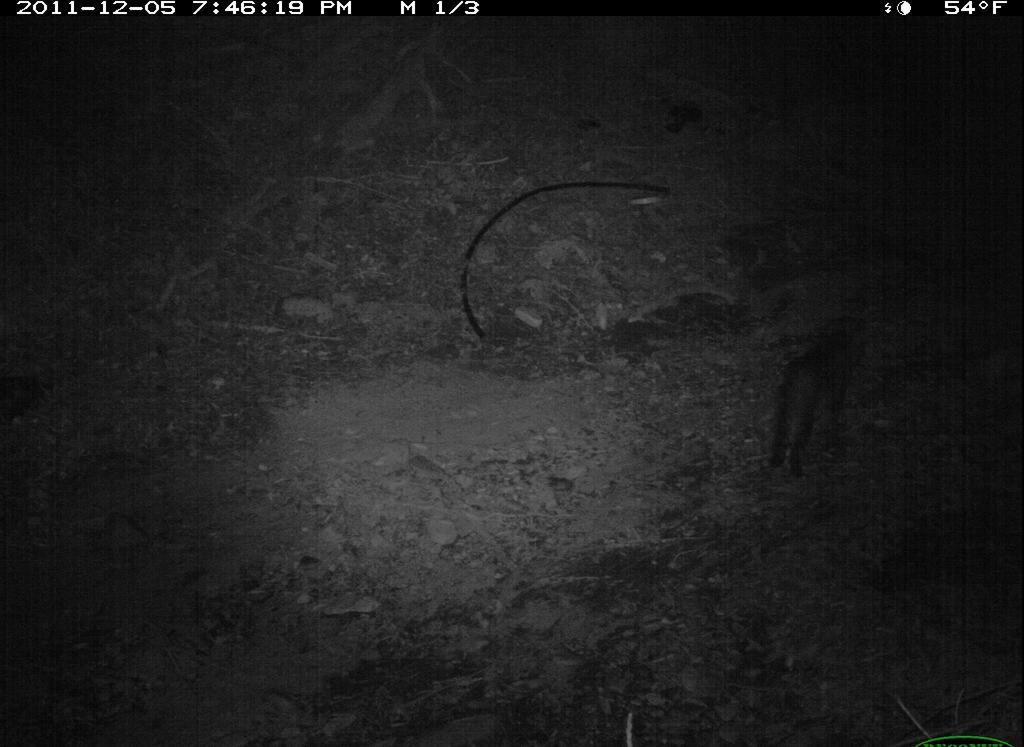cat: (757, 290, 889, 477)
